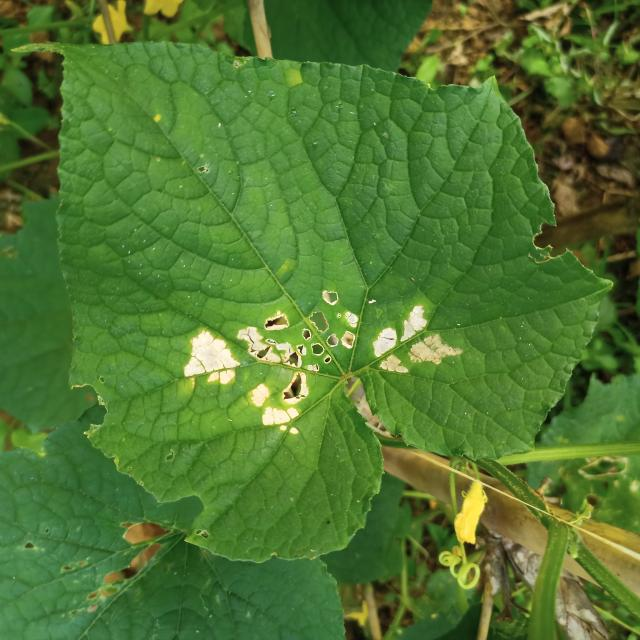disease_cucumber: (179, 281, 359, 447), (362, 295, 465, 389)
